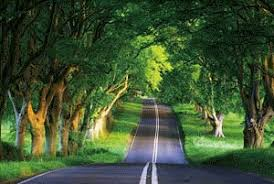forest: (5, 3, 273, 164)
